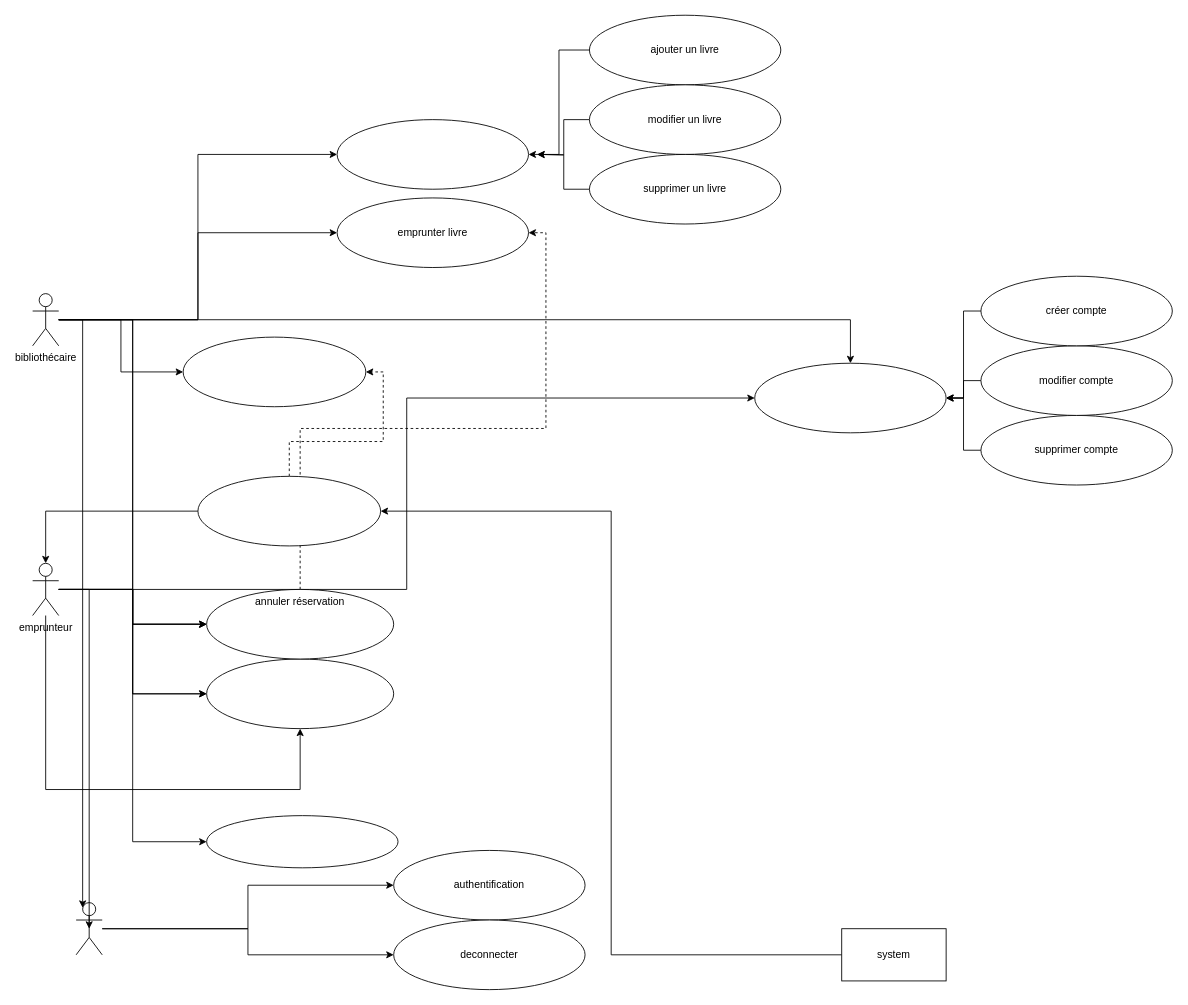
Image size: 1188x1005. Some labels were removed from this diagram. The centre of each missing label's shape, as x and y in pixels:
"avertir quand titre dispo" goes at [289,510].
"consulter titre dispo" goes at [302,841].
"gérer compte" goes at [850,397].
"gérer un livre" goes at [432,154].
"restituer un livre" goes at [274,371].
"réserver titre" goes at [300,693].
"utilisateur" goes at [88,928].
